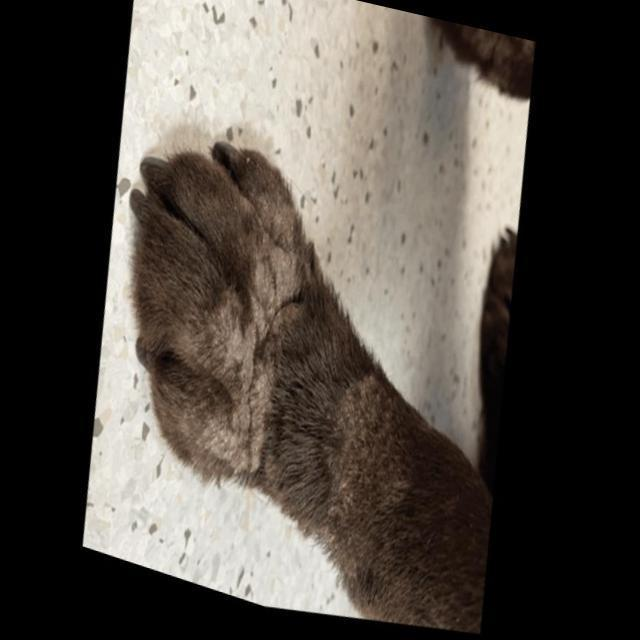mange: (183, 211, 333, 482)
